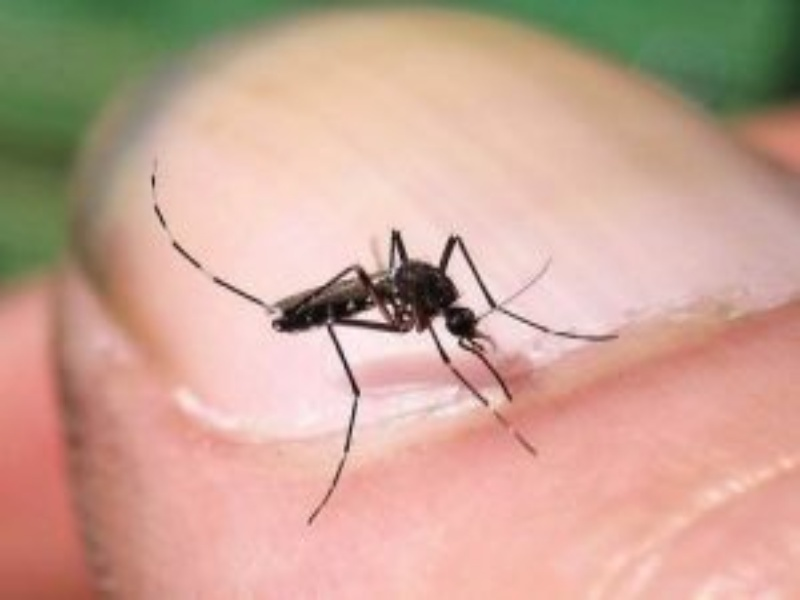dengue_mosquito: (229, 228, 505, 367)
